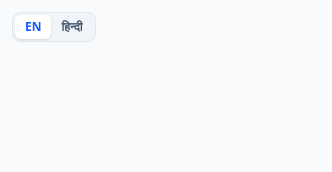
dom events suite › LanguageSwitch toggles between English and Hindi
This screenshot has width=332, height=172.
Click the button "हिन्दी" at (72, 27), box [52,15,93,39]
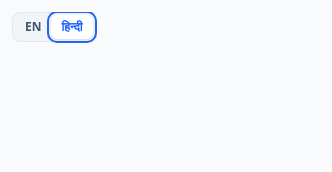
expect the button "हिन्दी" is pressed: met, box [52,15,93,39]
